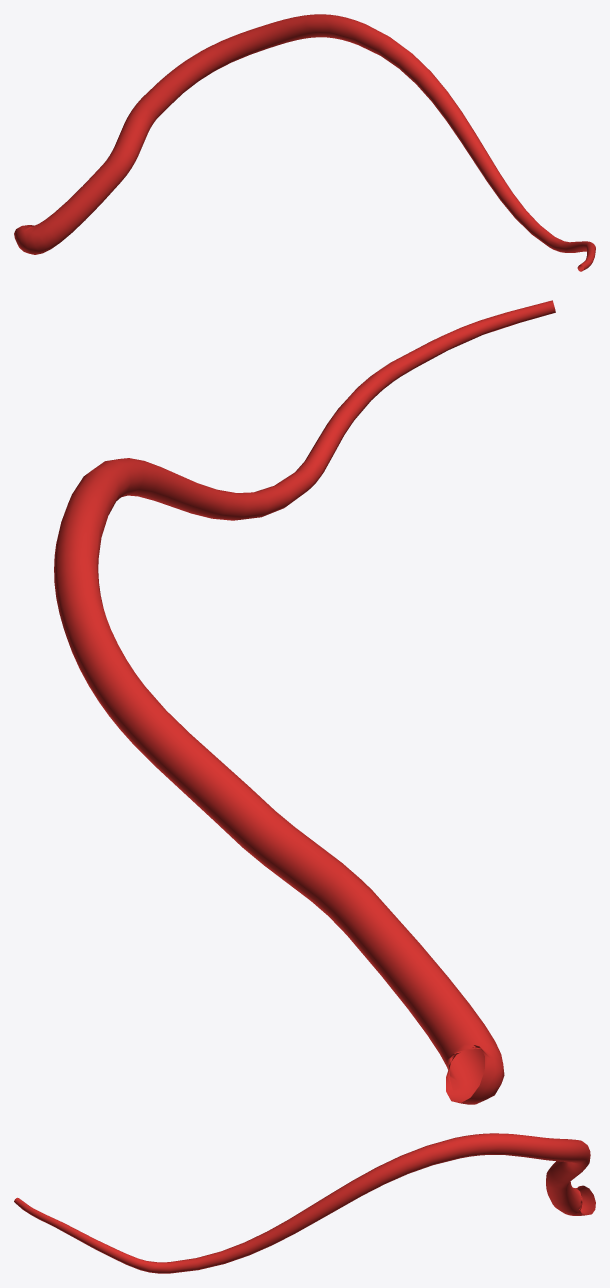
The model's file is circulatorio-inferior-lateral-genicular-artery-l.glb.
3 renders of one model, top to bottom at view 1: azimuth 30°, elevation 25°; view 2: azimuth 150°, elevation 25°; view 3: azimuth 270°, elevation 25°, orthographic. The views are drawn at different scales.
Parts seen in each view (by area): view 1: Inferior lateral genicular artery.l; view 2: Inferior lateral genicular artery.l; view 3: Inferior lateral genicular artery.l.
Part boxes in pixels (bbox=[...]): Inferior lateral genicular artery.l: bbox=[14, 14, 595, 271]; Inferior lateral genicular artery.l: bbox=[54, 300, 555, 1104]; Inferior lateral genicular artery.l: bbox=[14, 1133, 595, 1273].
Size of the model in its own units: 0.0438 by 0.0269 by 0.0708.
